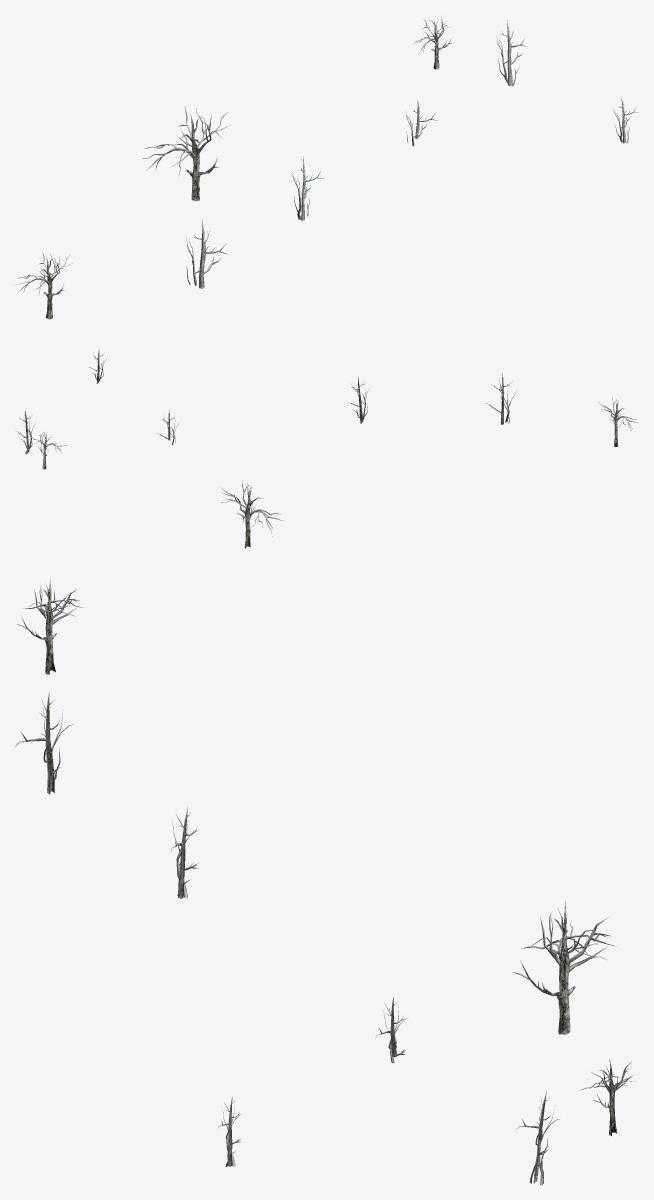
The model's file is S_Tree_White011_1.FBX.
3 renders of one model, top to bottom at view 1: azimuth 30°, elevation 25°; view 2: azimuth 150°, elevation 25°; view 3: azimuth 270°, elevation 25°, orthographic. The views are drawn at different scales.
Parts seen in each view (by area): view 1: S_Tree_White011_002, S_Tree_White011_001, S_Tree_White012_001, S_Tree_White012_005, S_Tree_White011_003, S_Tree_White012_002; view 2: S_Tree_White011_002, S_Tree_White011_001, S_Tree_White012_001; view 3: S_Tree_White011_002, S_Tree_White011_001, S_Tree_White012_001.
Boxes of the visible parts, x1=… form: S_Tree_White011_002: x1=142, y1=107, x2=230, y2=201; S_Tree_White011_001: x1=15, y1=252, x2=72, y2=319; S_Tree_White012_001: x1=186, y1=219, x2=228, y2=288; S_Tree_White012_005: x1=496, y1=20, x2=526, y2=86; S_Tree_White011_003: x1=412, y1=17, x2=451, y2=69; S_Tree_White012_002: x1=291, y1=156, x2=323, y2=220; S_Tree_White011_002: x1=219, y1=480, x2=282, y2=548; S_Tree_White011_001: x1=599, y1=397, x2=637, y2=446; S_Tree_White012_001: x1=485, y1=372, x2=516, y2=424; S_Tree_White011_002: x1=512, y1=900, x2=616, y2=1034; S_Tree_White011_001: x1=17, y1=578, x2=82, y2=674; S_Tree_White012_001: x1=15, y1=691, x2=73, y2=794.
Bounding box in the file's own units: 12655 × 6842 × 2682.
